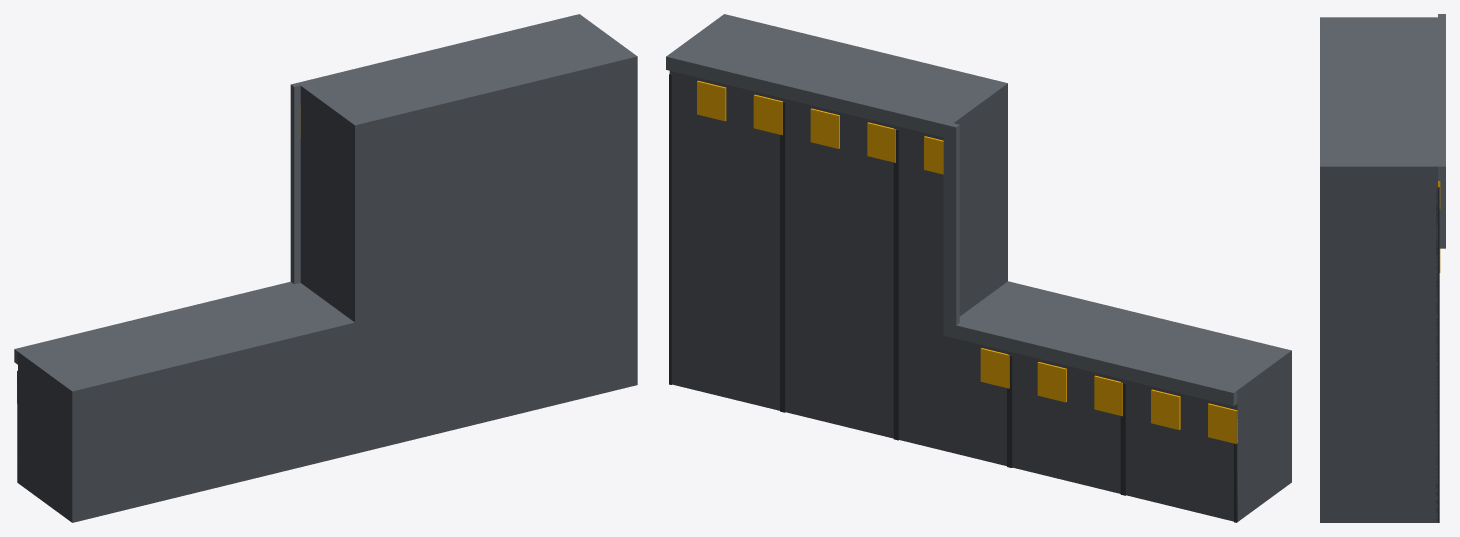
3 views of the same model, side by side, from view 1: azimuth 30°, elevation 25°; view 2: azimuth 150°, elevation 25°; view 3: azimuth 270°, elevation 25° (orthographic). The views are drawn at different scales.
Parts seen in each view (by area): view 1: k3w; view 2: k3w; view 3: k3w.
Boxes of the visible parts, x1,y1,x2,y2 form: k3w: (14,14,637,522); k3w: (666,14,1291,522); k3w: (1320,14,1445,522).
Size of the model in its own units: 9 by 5 by 1.6.
